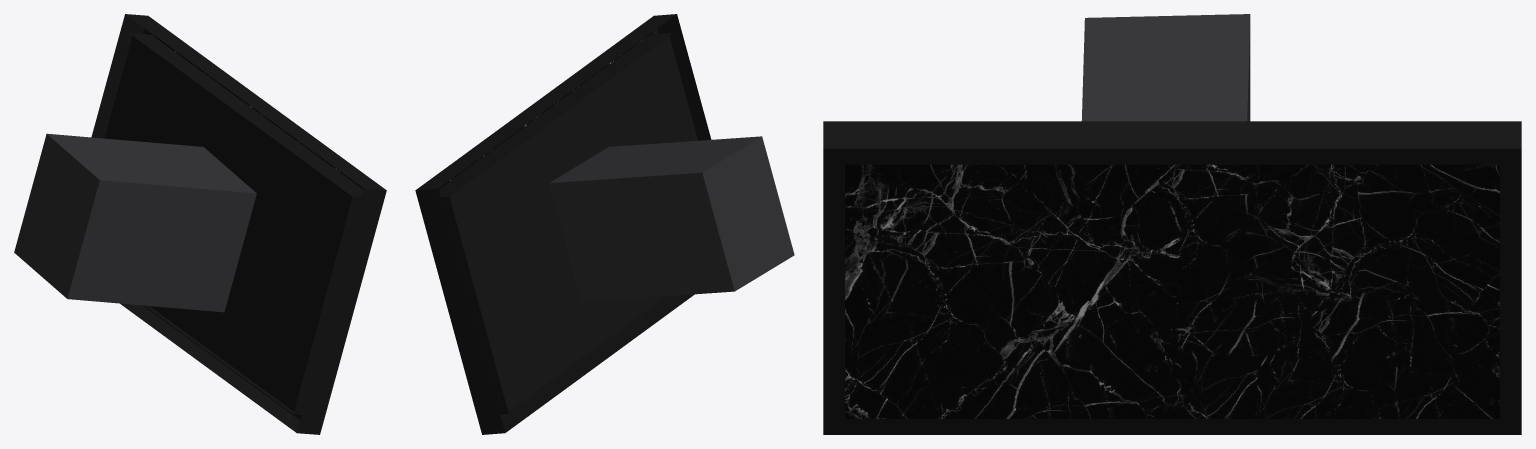
File: tubitakbuyukekrankirik.fbx
The picture shows the model from 3 angles, left to right: view 1: azimuth 30°, elevation 25°; view 2: azimuth 150°, elevation 25°; view 3: azimuth 270°, elevation 25°; orthographic projection. The views are drawn at different scales.
Parts seen in each view (by area): view 1: Cube, Kırık ekran duvar kağıdı (2021); view 2: Cube, Kırık ekran duvar kağıdı (2021); view 3: Kırık ekran duvar kağıdı (2021), Cube.
Boxes of the visible parts, <box> form: Cube: <box>14,14,386,434</box>; Kırık ekran duvar kağıdı (2021): <box>149,32,363,415</box>; Cube: <box>415,14,794,434</box>; Kırık ekran duvar kağıdı (2021): <box>438,32,652,189</box>; Kırık ekran duvar kağıdı (2021): <box>845,164,1499,418</box>; Cube: <box>823,14,1521,434</box>.
Size of the model in its own units: 397 by 388 by 712.
